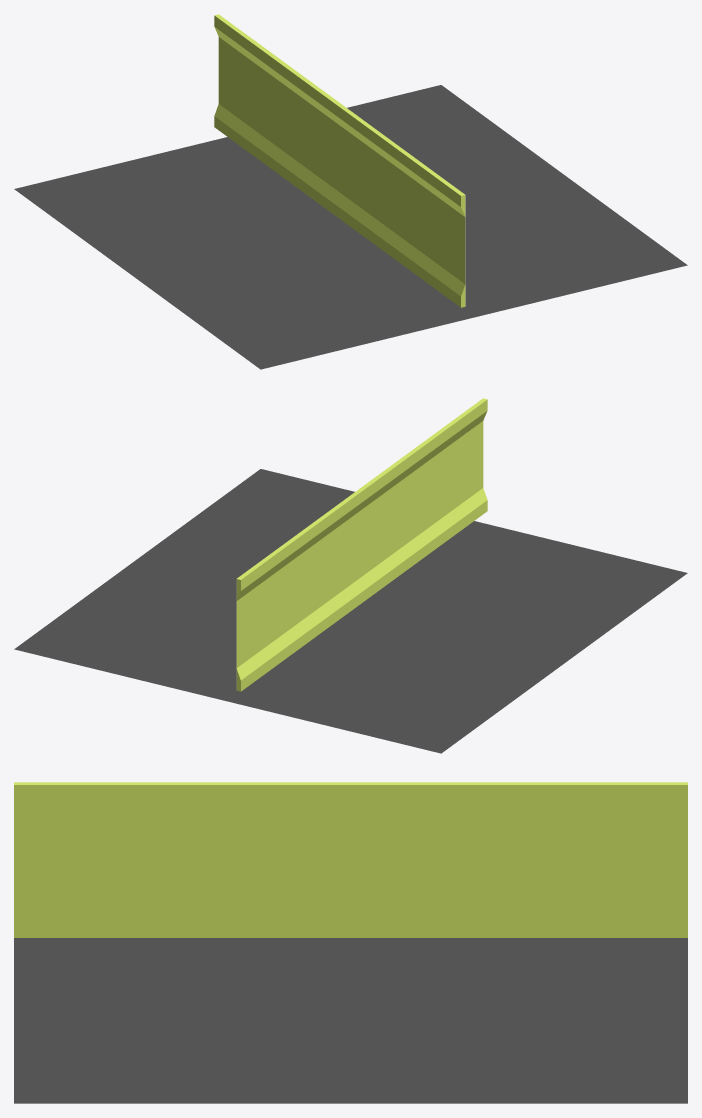
File: Fall.dae
The picture shows the model from 3 angles, top to bottom: view 1: azimuth 30°, elevation 25°; view 2: azimuth 150°, elevation 25°; view 3: azimuth 270°, elevation 25°; orthographic projection. The views are drawn at different scales.
Visible parts, largest first — view 1: node_8a999da3_045d_47f6_a88c_d60104b244f5_mesh0, node_8a999da3_045d_47f6_a88c_d60104b244f5_mesh1; view 2: node_8a999da3_045d_47f6_a88c_d60104b244f5_mesh0, node_8a999da3_045d_47f6_a88c_d60104b244f5_mesh1; view 3: node_8a999da3_045d_47f6_a88c_d60104b244f5_mesh0, node_8a999da3_045d_47f6_a88c_d60104b244f5_mesh1.
Boxes of the visible parts, x1,y1,x2,y2 form: node_8a999da3_045d_47f6_a88c_d60104b244f5_mesh0: (14, 85, 687, 369); node_8a999da3_045d_47f6_a88c_d60104b244f5_mesh1: (214, 14, 465, 307); node_8a999da3_045d_47f6_a88c_d60104b244f5_mesh0: (14, 469, 687, 753); node_8a999da3_045d_47f6_a88c_d60104b244f5_mesh1: (236, 398, 487, 691); node_8a999da3_045d_47f6_a88c_d60104b244f5_mesh0: (14, 938, 687, 1103); node_8a999da3_045d_47f6_a88c_d60104b244f5_mesh1: (14, 782, 687, 937).
Size of the model in its own units: 5000 by 1395 by 5000.
